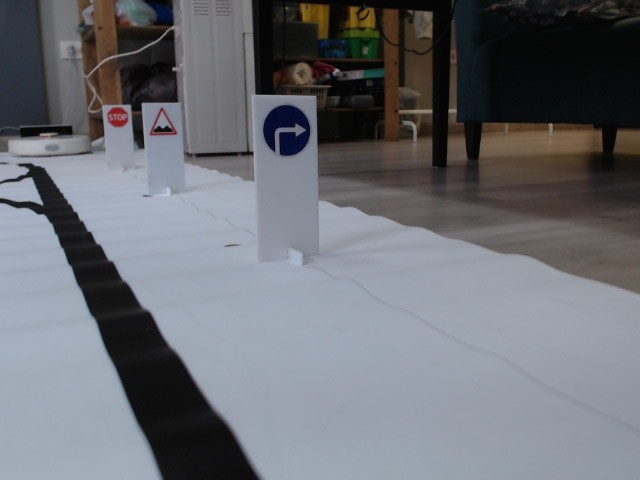Nerov: (149, 107, 177, 136)
Right: (260, 103, 311, 158)
Stop: (106, 107, 129, 129)
